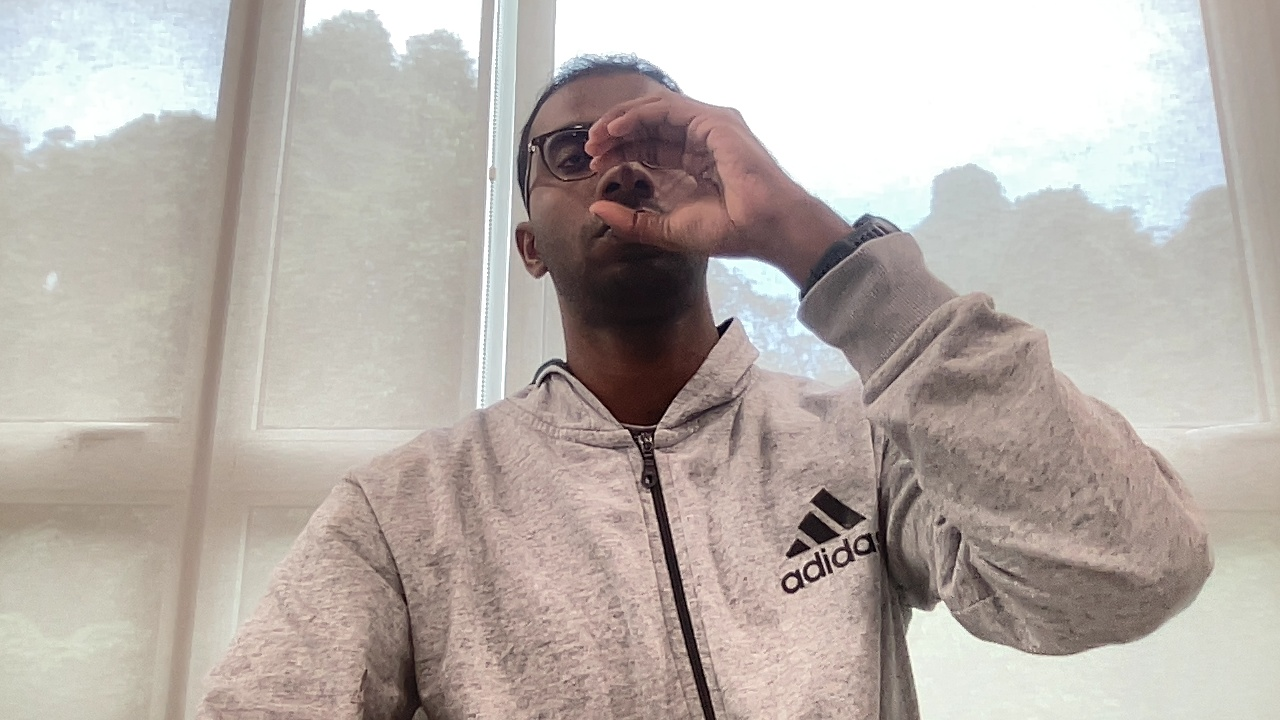drink: (579, 91, 790, 264)
